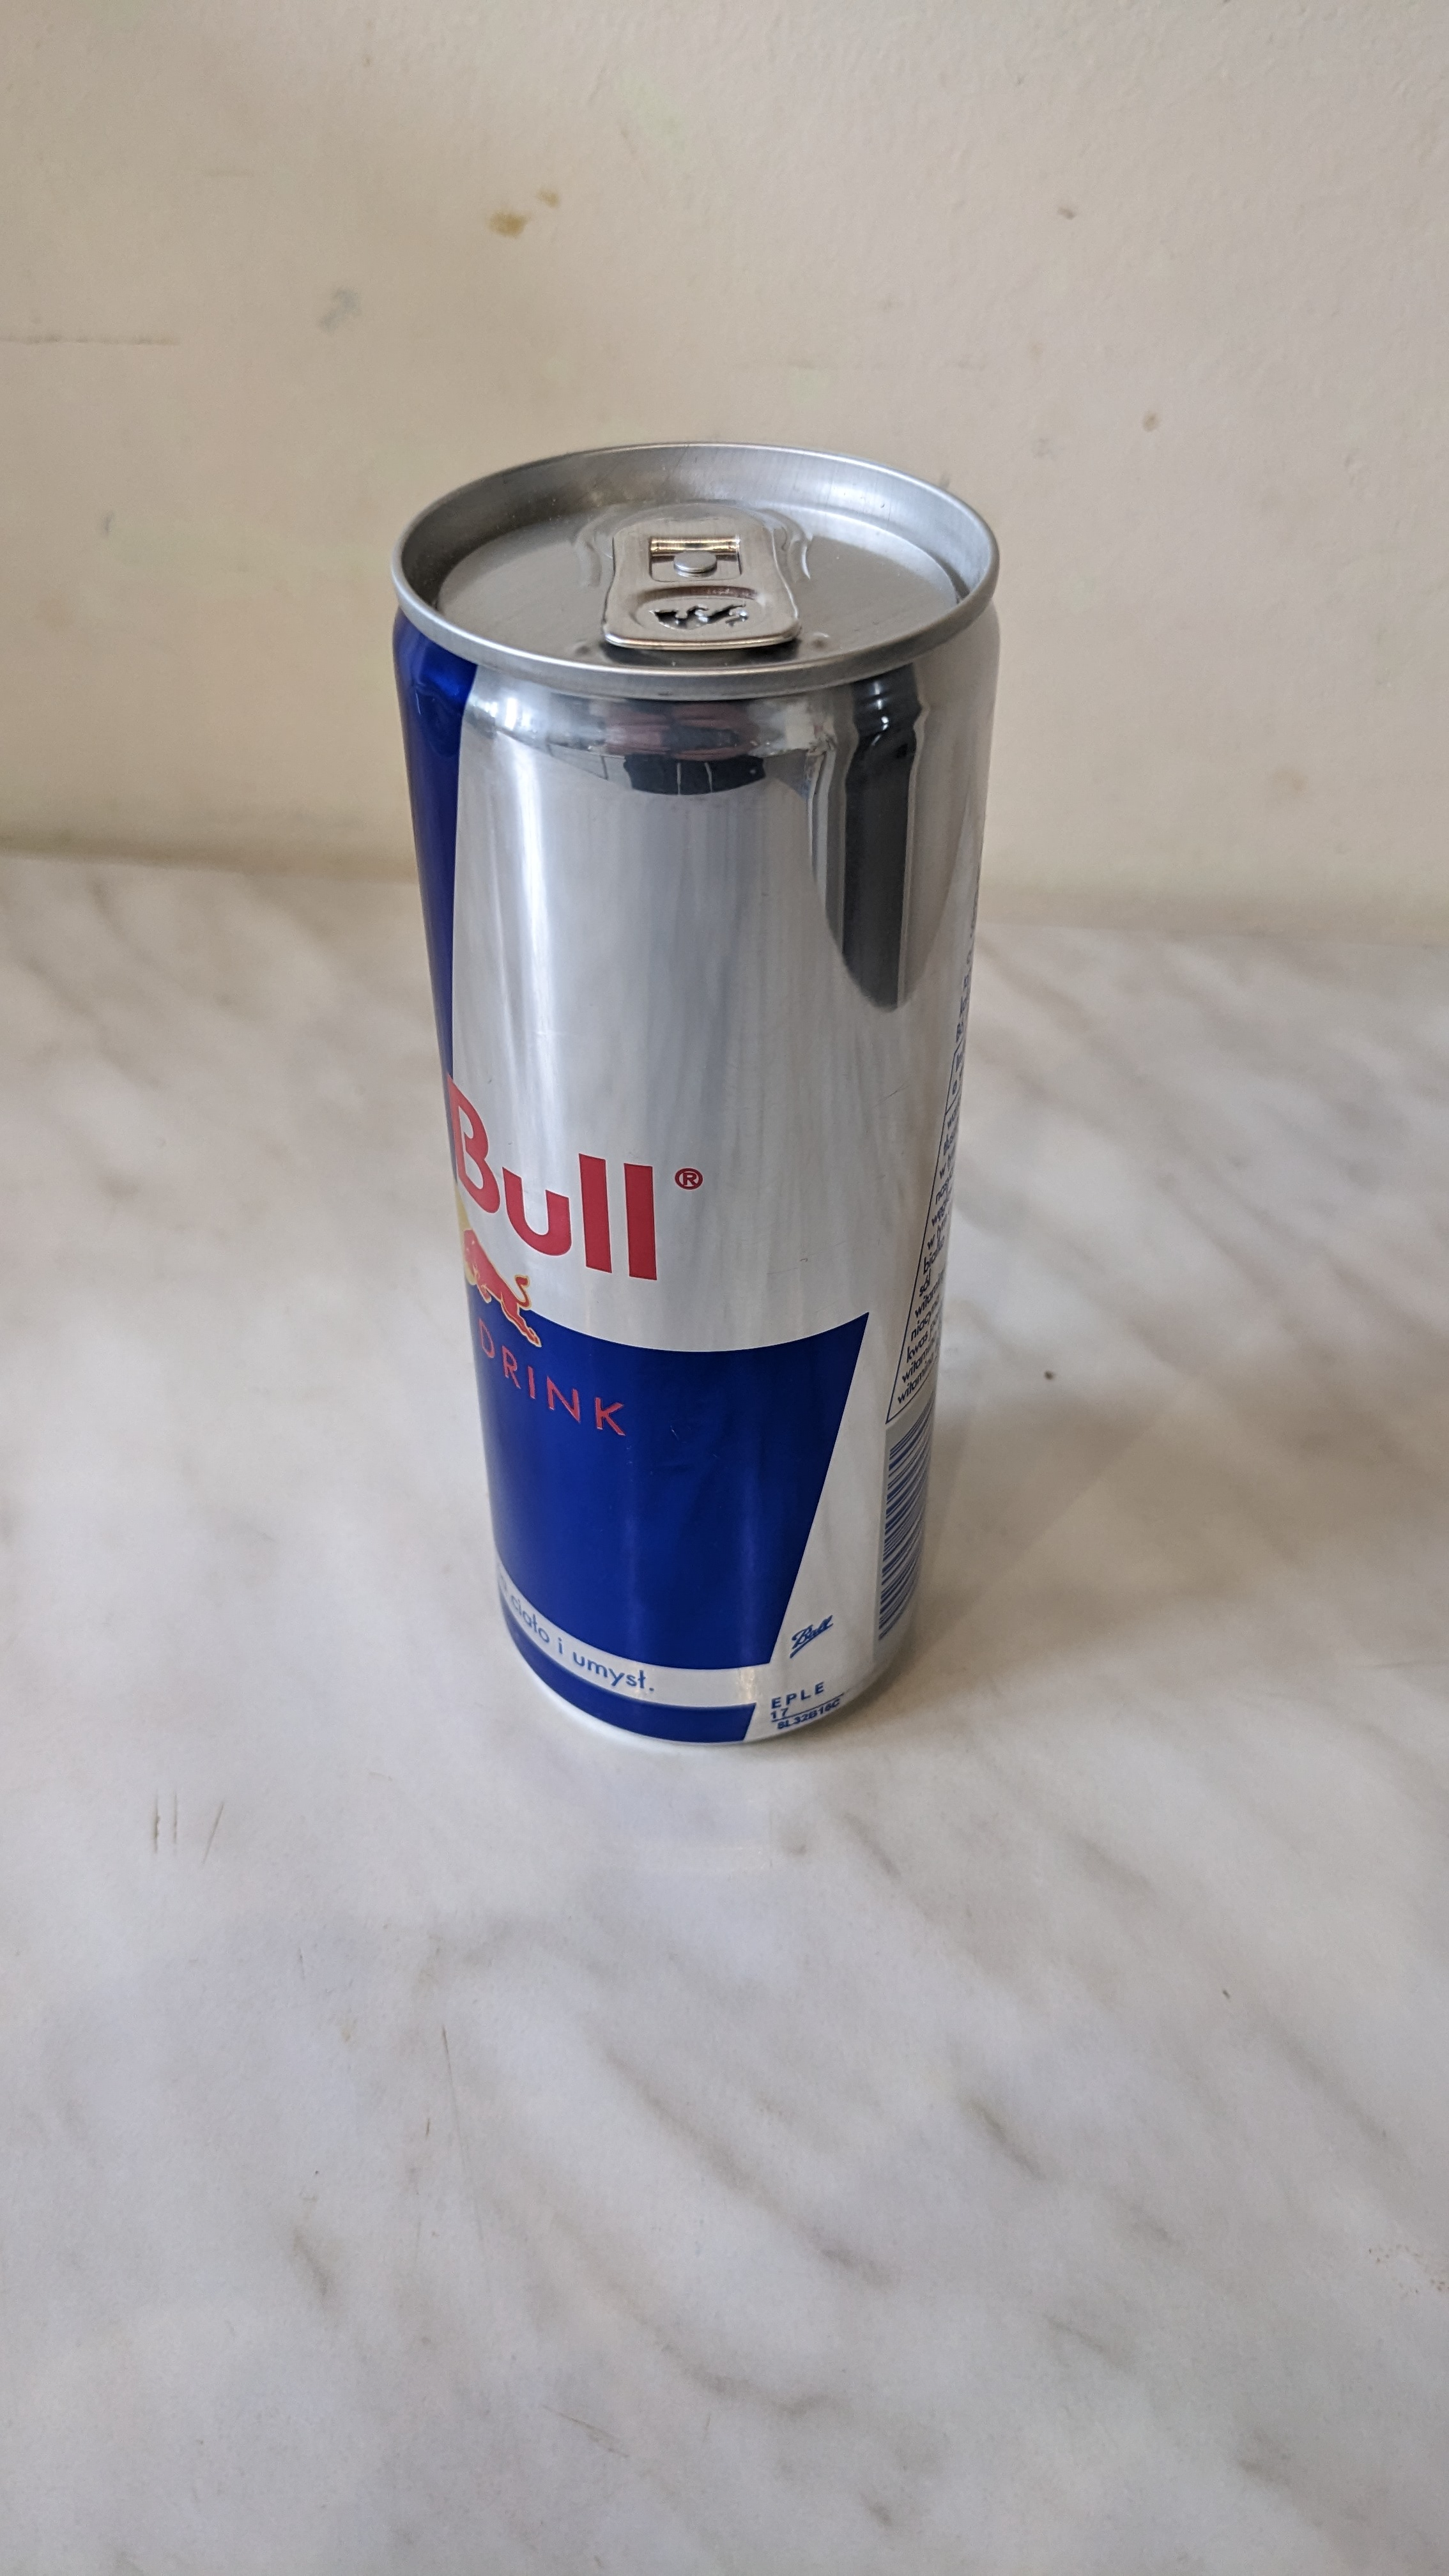red-bull: (387, 432, 1035, 1799)
